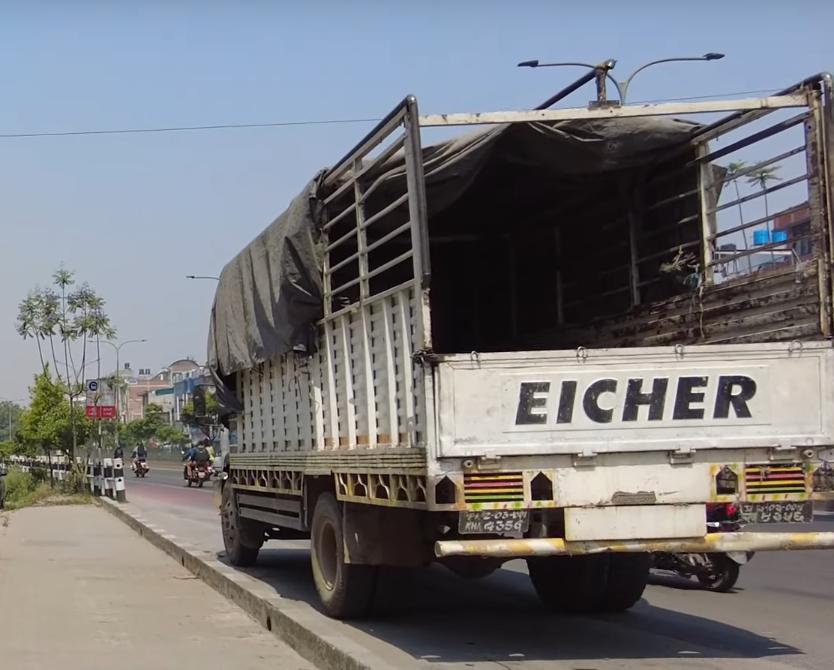bike: (130, 455, 149, 478)
truck: (205, 71, 833, 619)
